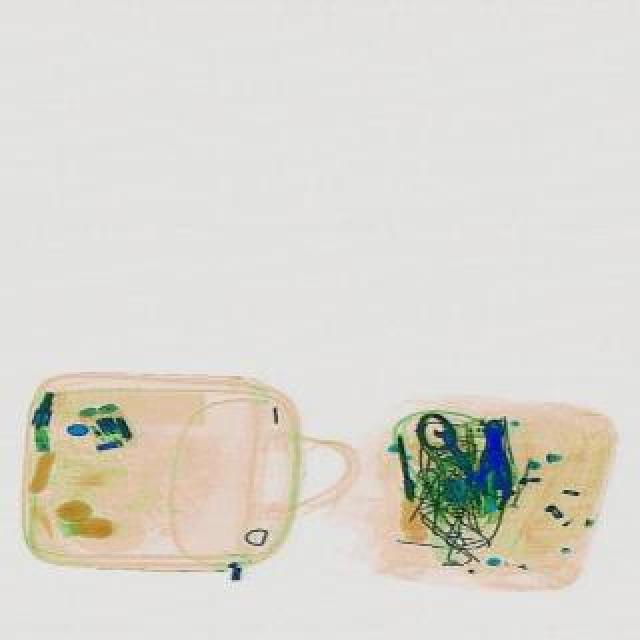scissors: (426, 420, 482, 492)
wrench: (470, 418, 510, 498)
